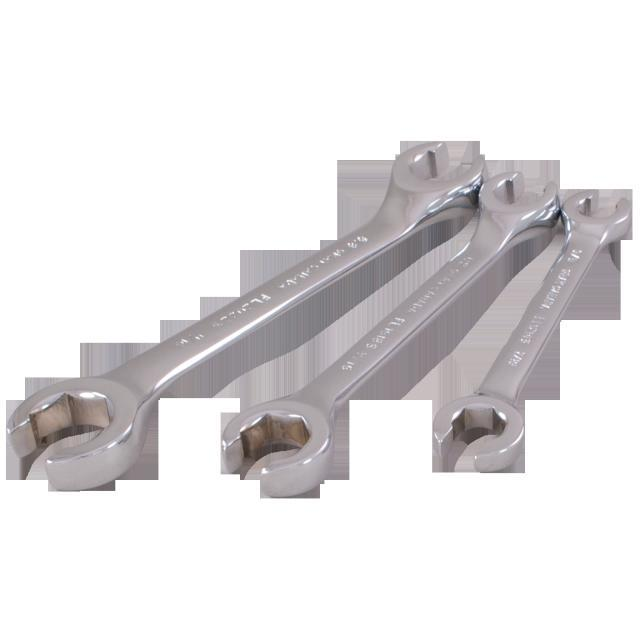wrench: (3, 138, 491, 494), (218, 168, 564, 502), (428, 188, 636, 477)
